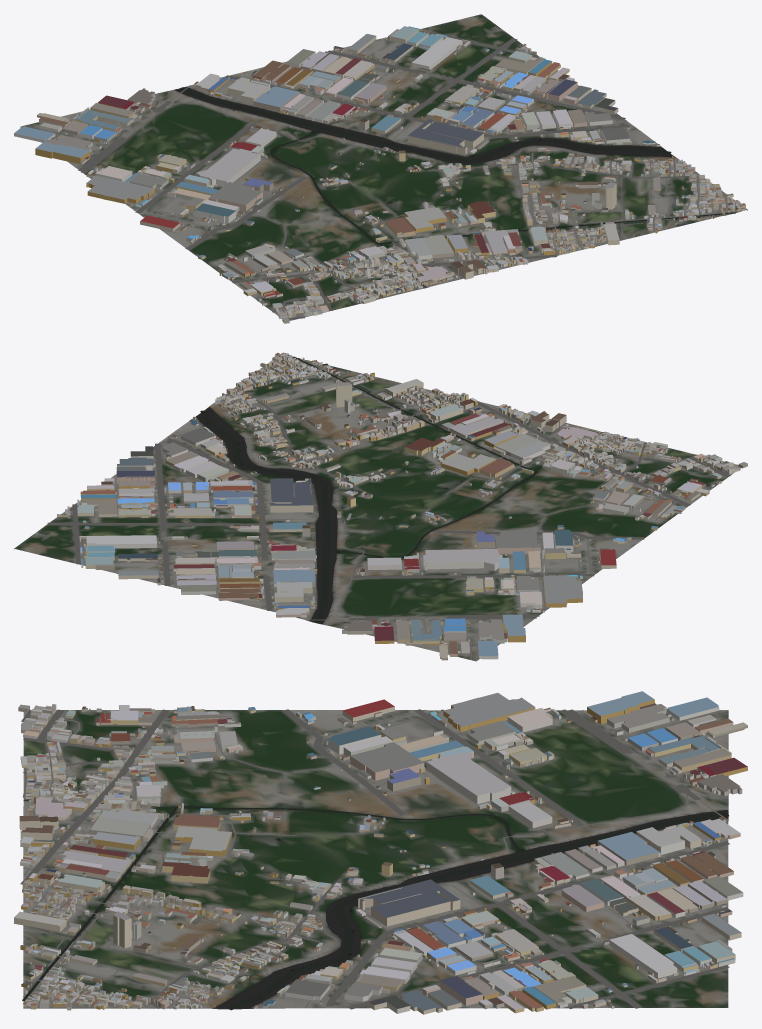
The picture shows the model from 3 angles, top to bottom: view 1: azimuth 30°, elevation 25°; view 2: azimuth 150°, elevation 25°; view 3: azimuth 270°, elevation 25°; orthographic projection. The views are drawn at different scales.
Parts seen in each view (by area): view 1: ground, buildings, roads, water; view 2: ground, buildings, roads, water; view 3: ground, buildings, roads, water.
Boxes of the visible parts, bbox=[...] form: ground: bbox=[20, 14, 747, 320]; buildings: bbox=[14, 26, 745, 323]; roads: bbox=[25, 31, 741, 319]; water: bbox=[174, 86, 735, 287]; ground: bbox=[14, 359, 738, 661]; buildings: bbox=[57, 352, 747, 660]; roads: bbox=[47, 357, 741, 660]; water: bbox=[196, 356, 603, 623]; ground: bbox=[23, 710, 728, 1009]; buildings: bbox=[14, 691, 747, 1014]; roads: bbox=[20, 709, 729, 1009]; water: bbox=[22, 800, 728, 1010].
Bounding box in the file's own units: 1489 × 65.82 × 1458.
